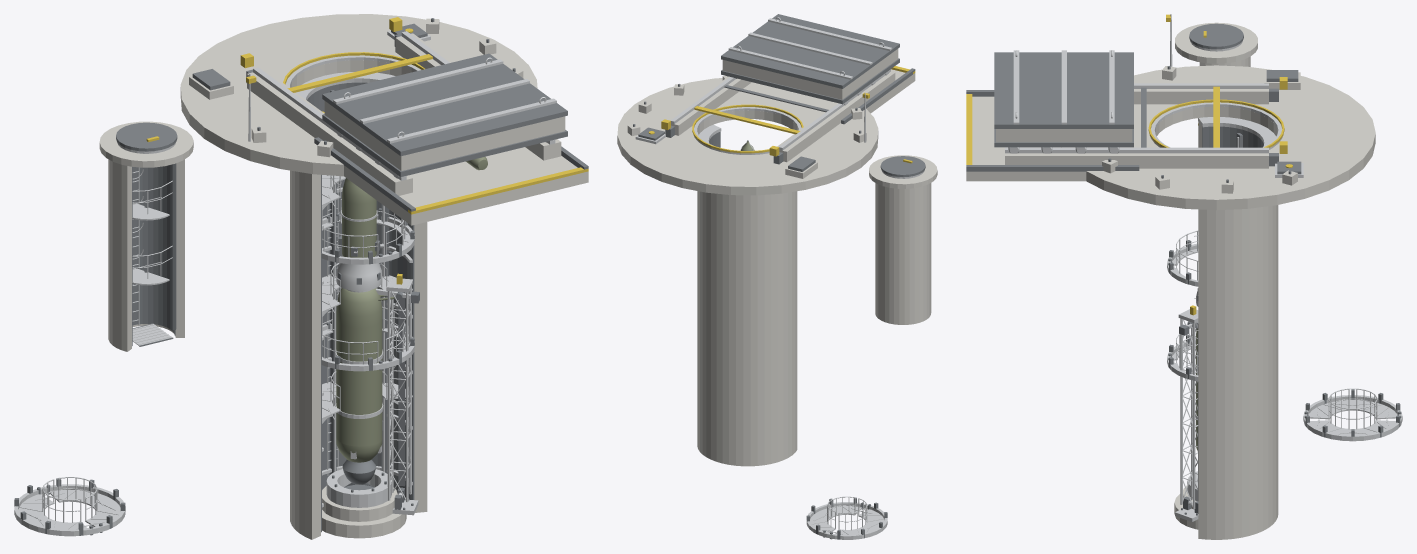
Rendered from cold-war-missile-silo-and-command-bunker-ffd2f8c0-starter-scene__15714.glb.
3 renders of one model, left to right at view 1: azimuth 30°, elevation 25°; view 2: azimuth 150°, elevation 25°; view 3: azimuth 270°, elevation 25°, orthographic. The views are drawn at different scales.
Visible parts, largest first — view 1: 001-silo-headworks-collar/0, 002-silo-blast-door-sliding/blast-door (×3), 000-launch-tube-cutaway/0, 009-personnel-access-shaft/0, 000-launch-tube-cutaway/1, 003-missile-first-stage/2, 000-launch-tube-cutaway/2, 009-personnel-access-shaft/1, 002-silo-blast-door-sliding/0, 008-umbilical-mast/0, 009-personnel-access-shaft/2, 004-missile-second-stage/2 (+14 smaller); view 2: 000-launch-tube-cutaway/0, 001-silo-headworks-collar/0, 002-silo-blast-door-sliding/blast-door (×3), 009-personnel-access-shaft/0, 002-silo-blast-door-sliding/0, 002-silo-blast-door-sliding/1, 001-silo-headworks-collar/1, 010-silo-work-platform-ring/leaf-right, 001-silo-headworks-collar/3, 010-silo-work-platform-ring/0, 009-personnel-access-shaft/shaft-hatch, 001-silo-headworks-collar/2 (+3 smaller); view 3: 000-launch-tube-cutaway/0, 001-silo-headworks-collar/0, 002-silo-blast-door-sliding/blast-door (×3), 002-silo-blast-door-sliding/0, 008-umbilical-mast/0, 002-silo-blast-door-sliding/1, 009-personnel-access-shaft/0, 001-silo-headworks-collar/3, 010-silo-work-platform-ring/leaf-left, 001-silo-headworks-collar/2, 010-silo-work-platform-ring/0, 009-personnel-access-shaft/shaft-hatch (+6 smaller).
Part boxes in pixels (left/top/right/bottom): 001-silo-headworks-collar/0: left=180, top=14, right=588, bottom=225; 002-silo-blast-door-sliding/blast-door (×3): left=322, top=53, right=567, bottom=178; 000-launch-tube-cutaway/0: left=290, top=170, right=427, bottom=539; 009-personnel-access-shaft/0: left=99, top=121, right=193, bottom=351; 000-launch-tube-cutaway/1: left=307, top=82, right=414, bottom=532; 003-missile-first-stage/2: left=336, top=288, right=382, bottom=462; 000-launch-tube-cutaway/2: left=296, top=72, right=412, bottom=507; 009-personnel-access-shaft/1: left=132, top=163, right=176, bottom=346; 002-silo-blast-door-sliding/0: left=247, top=33, right=561, bottom=195; 008-umbilical-mast/0: left=386, top=277, right=418, bottom=515; 009-personnel-access-shaft/2: left=117, top=142, right=175, bottom=345; 004-missile-second-stage/2: left=342, top=178, right=376, bottom=257; 000-launch-tube-cutaway/0: left=697, top=191, right=797, bottom=466; 001-silo-headworks-collar/0: left=617, top=69, right=915, bottom=195; 002-silo-blast-door-sliding/blast-door (×3): left=721, top=14, right=899, bottom=105; 009-personnel-access-shaft/0: left=869, top=155, right=937, bottom=324; 002-silo-blast-door-sliding/0: left=669, top=71, right=895, bottom=162; 002-silo-blast-door-sliding/1: left=671, top=69, right=890, bottom=150; 001-silo-headworks-collar/1: left=635, top=93, right=866, bottom=154; 010-silo-work-platform-ring/leaf-right: left=810, top=496, right=865, bottom=532; 001-silo-headworks-collar/3: left=633, top=68, right=915, bottom=171; 010-silo-work-platform-ring/0: left=806, top=502, right=887, bottom=539; 009-personnel-access-shaft/shaft-hatch: left=880, top=156, right=925, bottom=177; 001-silo-headworks-collar/2: left=692, top=66, right=915, bottom=153; 000-launch-tube-cutaway/0: left=1174, top=118, right=1278, bottom=539; 001-silo-headworks-collar/0: left=966, top=65, right=1375, bottom=210; 002-silo-blast-door-sliding/blast-door (×3): left=994, top=50, right=1133, bottom=153; 002-silo-blast-door-sliding/0: left=1005, top=89, right=1268, bottom=168; 008-umbilical-mast/0: left=1175, top=309, right=1198, bottom=521; 002-silo-blast-door-sliding/1: left=1005, top=83, right=1268, bottom=153; 009-personnel-access-shaft/0: left=1175, top=22, right=1257, bottom=66; 001-silo-headworks-collar/3: left=966, top=66, right=1298, bottom=182; 010-silo-work-platform-ring/leaf-left: left=1308, top=388, right=1397, bottom=422; 001-silo-headworks-collar/2: left=966, top=14, right=1284, bottom=164; 010-silo-work-platform-ring/0: left=1303, top=395, right=1402, bottom=441; 009-personnel-access-shaft/shaft-hatch: left=1189, top=23, right=1243, bottom=49.
Size of the model in its own units: 18.78 by 21.4 by 19.18.
